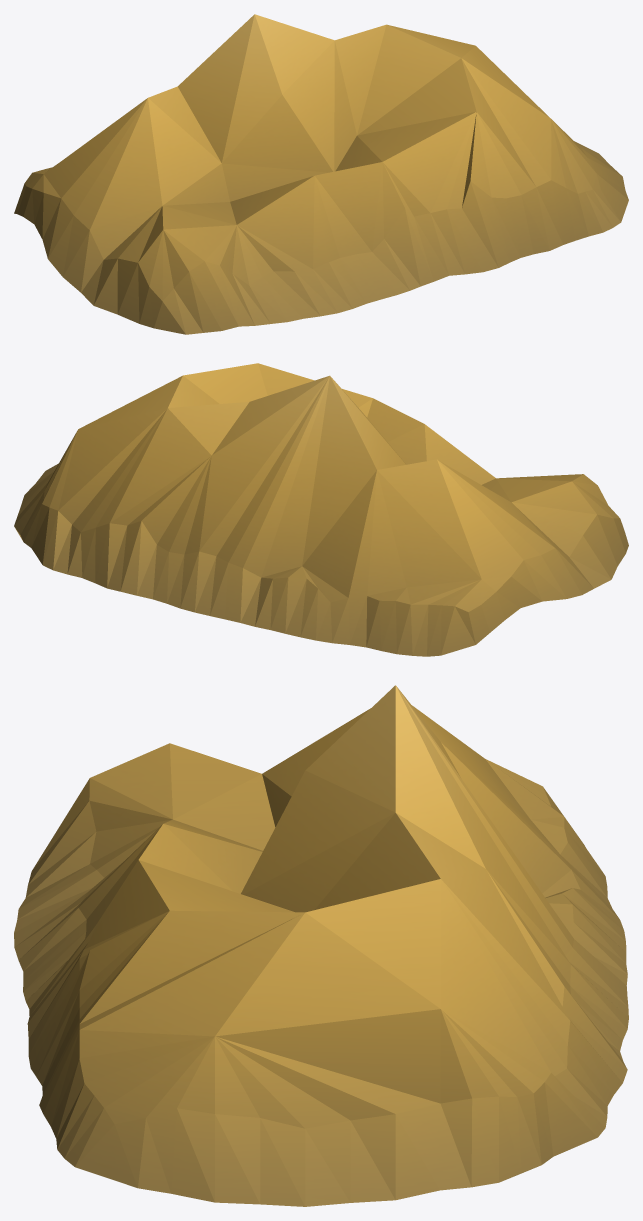
Rendered from Forest_Mountains_001.FBX.
The picture shows the model from 3 angles, top to bottom: view 1: azimuth 30°, elevation 25°; view 2: azimuth 150°, elevation 25°; view 3: azimuth 270°, elevation 25°; orthographic projection. The views are drawn at different scales.
Parts seen in each view (by area): view 1: Forest_Mountains_001; view 2: Forest_Mountains_001; view 3: Forest_Mountains_001.
Boxes of the visible parts, x1,y1,x2,y2 form: Forest_Mountains_001: [14, 14, 628, 334]; Forest_Mountains_001: [14, 363, 628, 656]; Forest_Mountains_001: [14, 685, 628, 1206].
Bounding box in the file's own units: 4628 × 1620 × 3058.
Materials: 1 (1 with a texture image).
